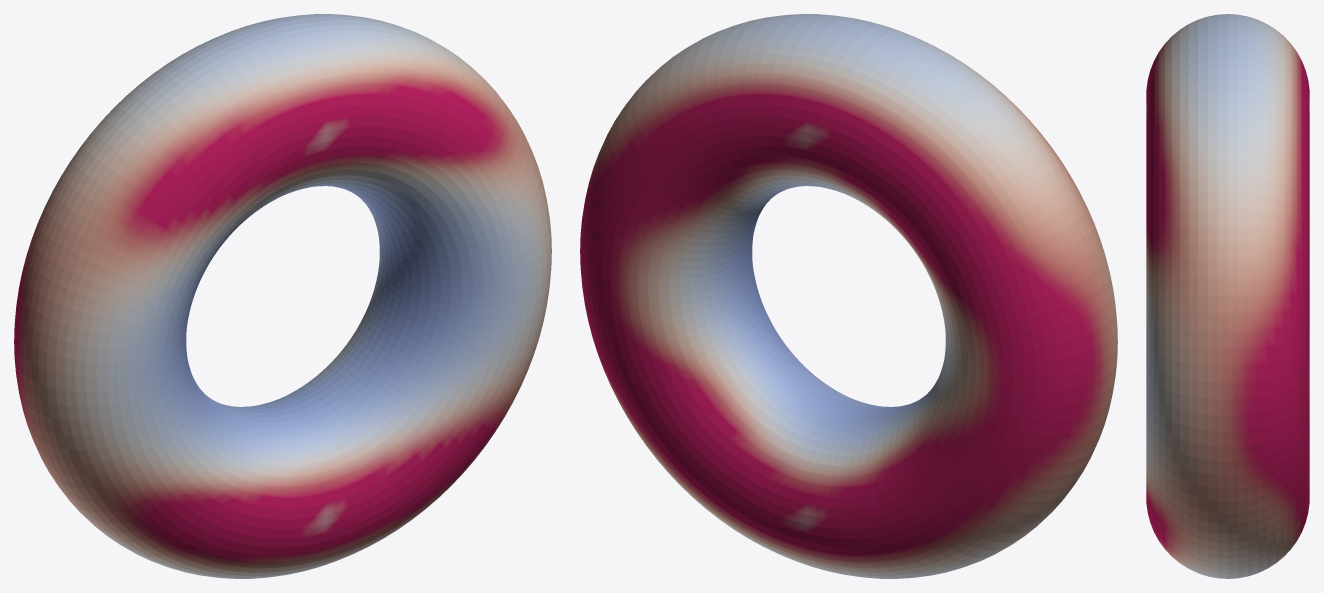
3 renders of one model, left to right at view 1: azimuth 30°, elevation 25°; view 2: azimuth 150°, elevation 25°; view 3: azimuth 270°, elevation 25°, orthographic. The views are drawn at different scales.
Visible parts, largest first — view 1: world; view 2: world; view 3: world.
Part boxes in pixels (<box>): world: <box>14,14,551,578</box>; world: <box>580,14,1117,578</box>; world: <box>1146,14,1309,578</box>.
Bounding box in the file's own units: 24.4 × 24.4 × 7.05.
